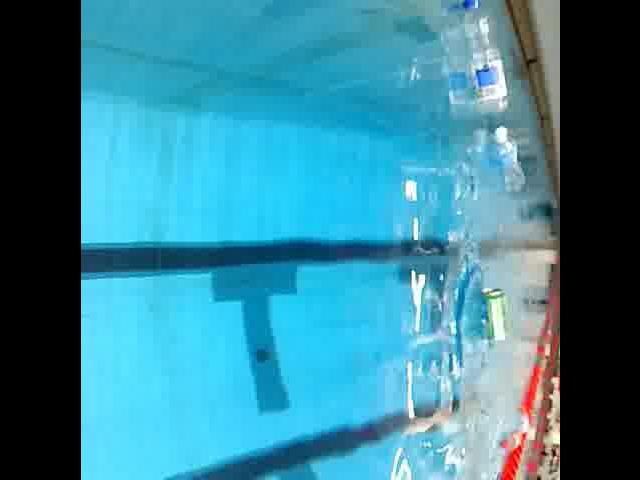Bottle: (453, 0, 511, 120), (486, 122, 530, 198)
Can: (474, 284, 512, 350)
